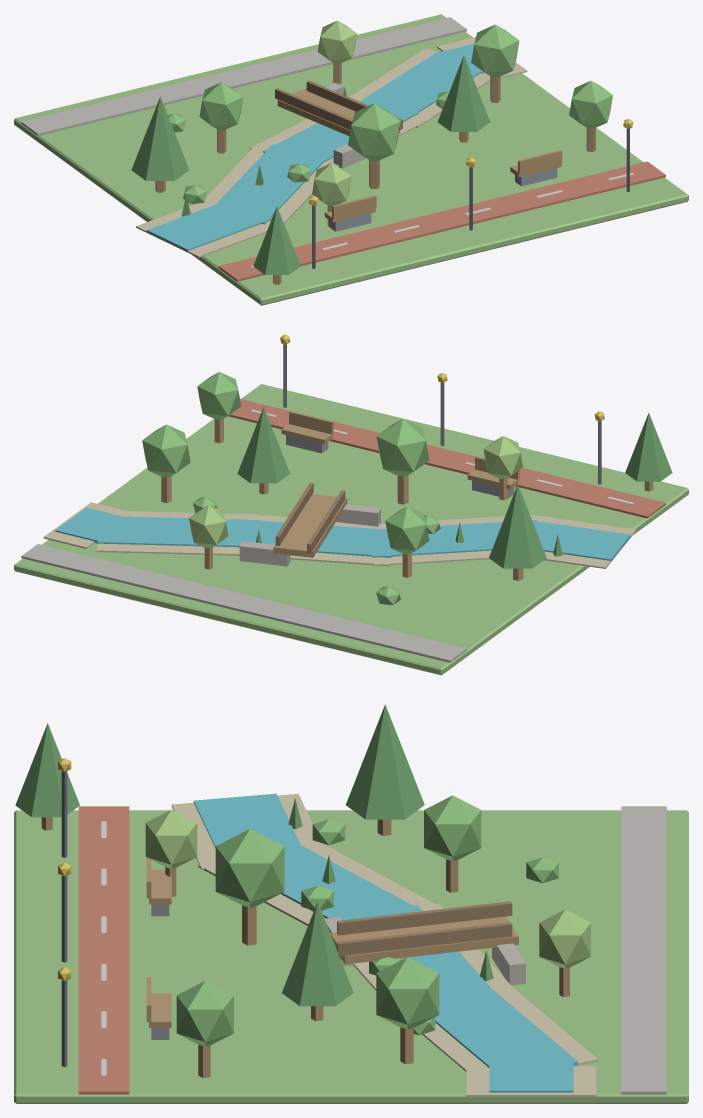
The model's file is parques__parque_linear.glb.
3 renders of one model, top to bottom at view 1: azimuth 30°, elevation 25°; view 2: azimuth 150°, elevation 25°; view 3: azimuth 270°, elevation 25°, orthographic. The views are drawn at different scales.
Parts seen in each view (by area): view 1: parques__parque_linear; view 2: parques__parque_linear; view 3: parques__parque_linear.
Part boxes in pixels (x1,y1,x2,y2): parques__parque_linear: (14, 14, 688, 305); parques__parque_linear: (14, 334, 688, 675); parques__parque_linear: (14, 704, 688, 1103).
Size of the model in its own units: 6.33 by 1.37 by 6.
